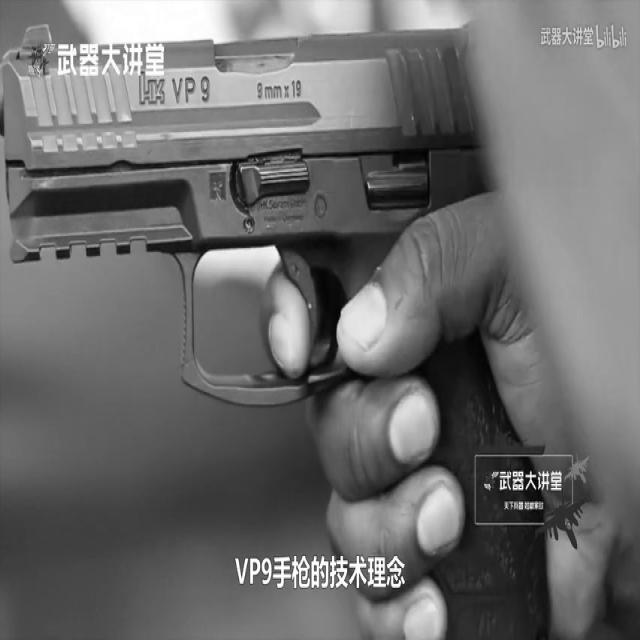Hand-Gun: (0, 0, 607, 640)
